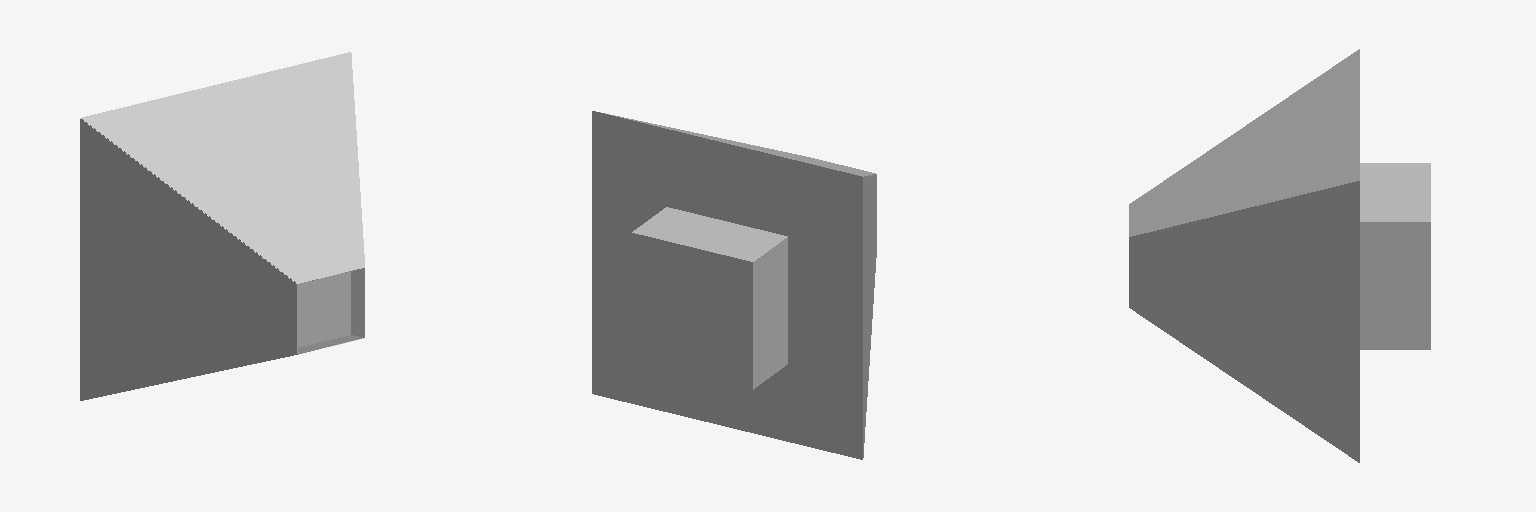
Rendered from hellolosers.obj.
The picture shows the model from 3 angles: view 1: azimuth 30°, elevation 25°; view 2: azimuth 150°, elevation 25°; view 3: azimuth 270°, elevation 25°; orthographic projection.
Parts seen in each view (by area): view 1: Cube_Cube.001; view 2: Cube_Cube.001; view 3: Cube_Cube.001.
Boxes of the visible parts, box(x1,y1,x2,y2) form: Cube_Cube.001: box(80, 52, 364, 400); Cube_Cube.001: box(592, 111, 876, 459); Cube_Cube.001: box(1129, 49, 1430, 462).
Size of the model in its own units: 4.46 by 4.45 by 4.29.